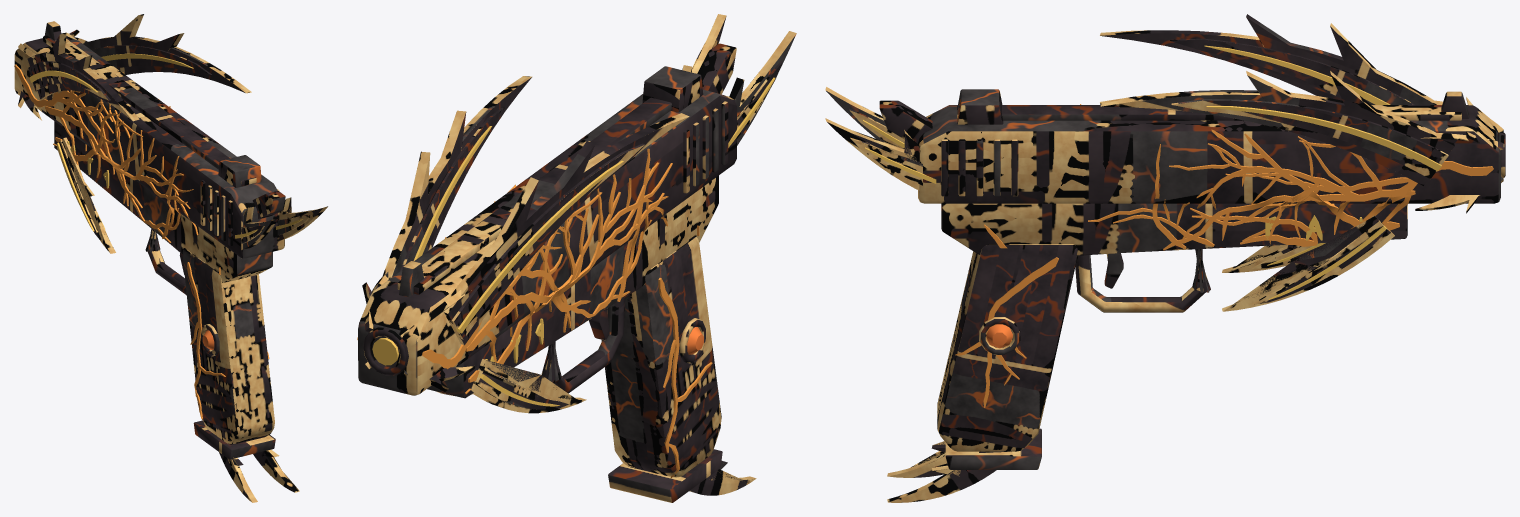
File: Lava_Deagle.fbx
The picture shows the model from 3 angles, left to right: view 1: azimuth 30°, elevation 25°; view 2: azimuth 150°, elevation 25°; view 3: azimuth 270°, elevation 25°; orthographic projection. The views are drawn at different scales.
Parts seen in each view (by area): view 1: Lava_Deagle_Slide, Lava_Deagle_Grip, Lava_Deagle_Gold, Lava_Deagle_FinsGold, Lava_Deagle_Cracks, Lava_Deagle_Frame, Lava_Deagle_FinsDark, Lava_Deagle_FinVeins; view 2: Lava_Deagle_Slide, Lava_Deagle_Gold, Lava_Deagle_Grip, Lava_Deagle_FinsGold, Lava_Deagle_Cracks, Lava_Deagle_Frame, Lava_Deagle_FinsDark, Lava_Deagle_FinVeins, Lava_Deagle_Runes; view 3: Lava_Deagle_Slide, Lava_Deagle_FinsGold, Lava_Deagle_Grip, Lava_Deagle_Gold, Lava_Deagle_Frame, Lava_Deagle_Cracks, Lava_Deagle_FinsDark, Lava_Deagle_FinVeins.
Part boxes in pixels (x1,y1,x2,y2): Lava_Deagle_Slide: [14, 32, 284, 258]; Lava_Deagle_Grip: [182, 248, 274, 444]; Lava_Deagle_Gold: [43, 21, 285, 459]; Lava_Deagle_FinsGold: [18, 14, 327, 502]; Lava_Deagle_Cracks: [14, 64, 269, 420]; Lava_Deagle_Frame: [54, 121, 272, 282]; Lava_Deagle_FinsDark: [28, 45, 311, 243]; Lava_Deagle_FinVeins: [29, 53, 302, 238]; Lava_Deagle_Slide: [358, 90, 736, 395]; Lava_Deagle_Gold: [363, 43, 736, 502]; Lava_Deagle_Grip: [601, 237, 721, 477]; Lava_Deagle_FinsGold: [362, 14, 796, 495]; Lava_Deagle_Cracks: [357, 148, 712, 478]; Lava_Deagle_Frame: [427, 175, 718, 398]; Lava_Deagle_FinsDark: [400, 44, 782, 409]; Lava_Deagle_FinVeins: [413, 59, 775, 406]; Lava_Deagle_Runes: [372, 318, 543, 365]; Lava_Deagle_Slide: [918, 105, 1500, 203]; Lava_Deagle_FinsGold: [825, 14, 1503, 502]; Lava_Deagle_Grip: [937, 244, 1077, 451]; Lava_Deagle_Gold: [879, 89, 1505, 469]; Lava_Deagle_Frame: [941, 203, 1407, 255]; Lava_Deagle_Cracks: [955, 104, 1493, 407]; Lava_Deagle_FinsDark: [849, 38, 1448, 304]; Lava_Deagle_FinVeins: [863, 45, 1441, 299].
Bounding box in the file's own units: 44.99 × 126 × 175.
4 materials, 1 textured.
